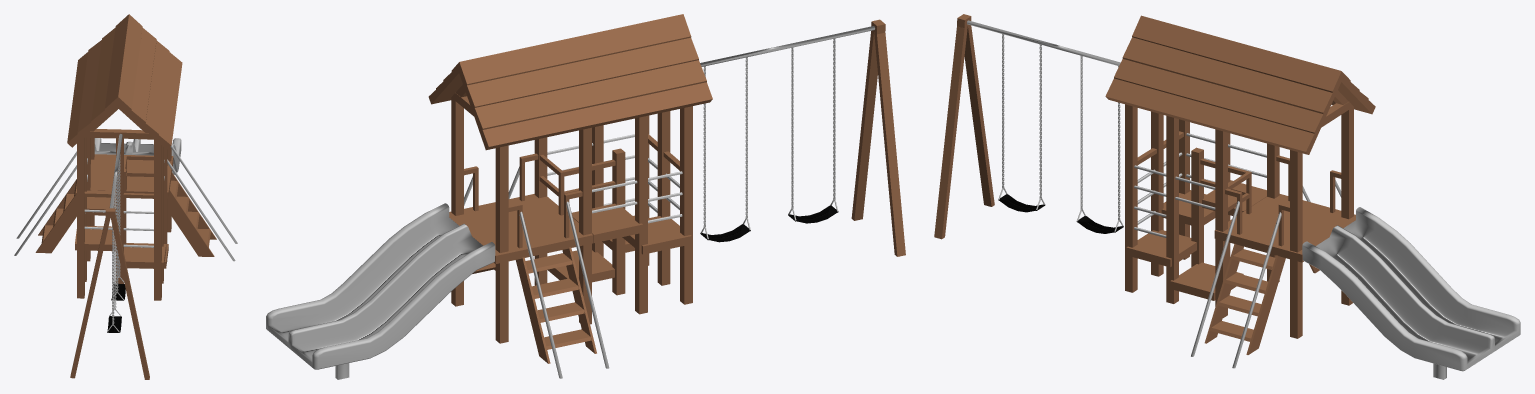
The picture shows the model from 3 angles, left to right: view 1: azimuth 30°, elevation 25°; view 2: azimuth 150°, elevation 25°; view 3: azimuth 270°, elevation 25°; orthographic projection. The views are drawn at different scales.
Visible parts, largest first — view 1: model1; view 2: model1; view 3: model1.
Part boxes in pixels (<box>): model1: <box>14,14,237,379</box>; model1: <box>266,14,905,379</box>; model1: <box>934,14,1520,379</box>.
Size of the model in its own units: 4.71 by 3.13 by 6.42.
3 materials, 1 textured.
